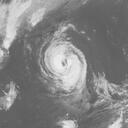cyclone: (38, 38, 87, 92)
